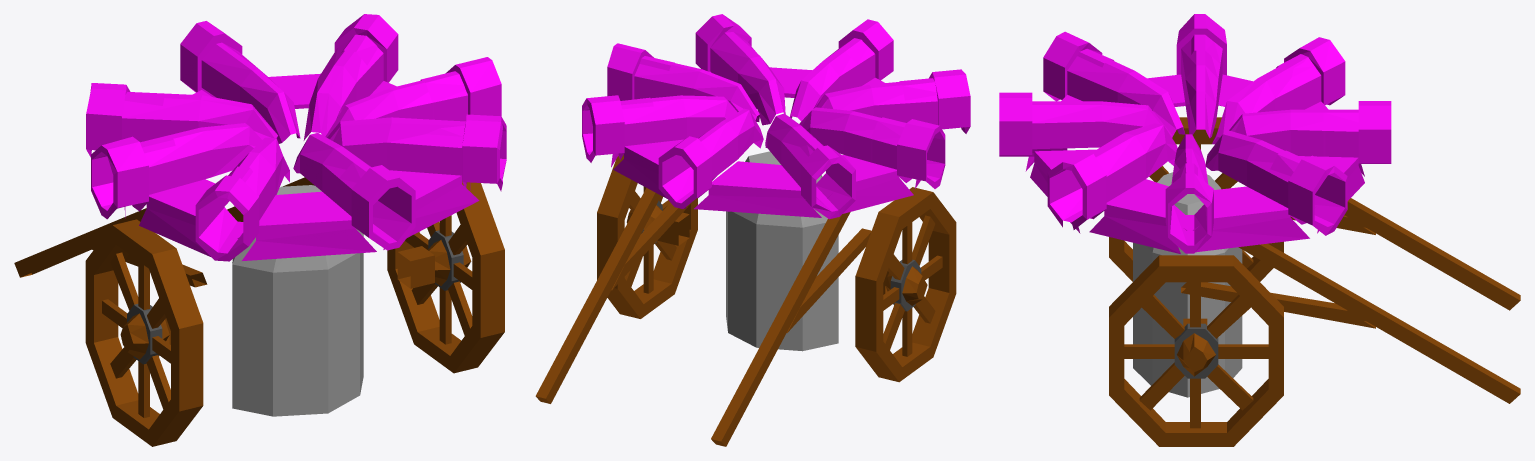
Rendered from dwarf multicannon part3.obj.
The picture shows the model from 3 angles, left to right: view 1: azimuth 30°, elevation 25°; view 2: azimuth 150°, elevation 25°; view 3: azimuth 270°, elevation 25°; orthographic projection. The views are drawn at different scales.
Parts seen in each view (by area): view 1: dwarf multicannon part3_back; view 2: dwarf multicannon part3_back; view 3: dwarf multicannon part3_back.
Part boxes in pixels (bbox=[...]): dwarf multicannon part3_back: bbox=[14, 14, 506, 446]; dwarf multicannon part3_back: bbox=[535, 14, 970, 446]; dwarf multicannon part3_back: bbox=[999, 14, 1520, 446].
Size of the model in its own units: 1.88 by 1.38 by 2.38.
